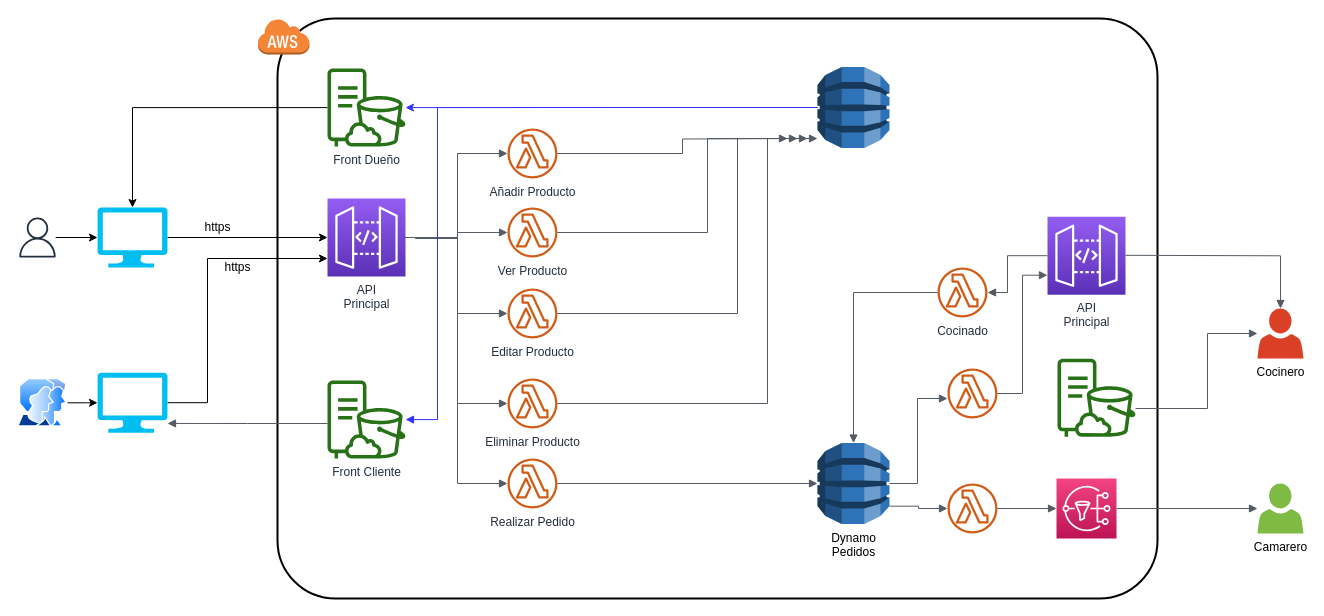
This 1324x616 diagram has some shape labels left out. The centre of each missing label's shape, as x and y in pixels:
"Cliente" goes at (42,402).
"Dueño" goes at (37,237).
"Dynamo Productos Restaurante" goes at (853,107).
"Enivar a Camarero" goes at (972,508).
"Enivar a cocina" goes at (972,393).
"Front Cocina" goes at (1096,397).
